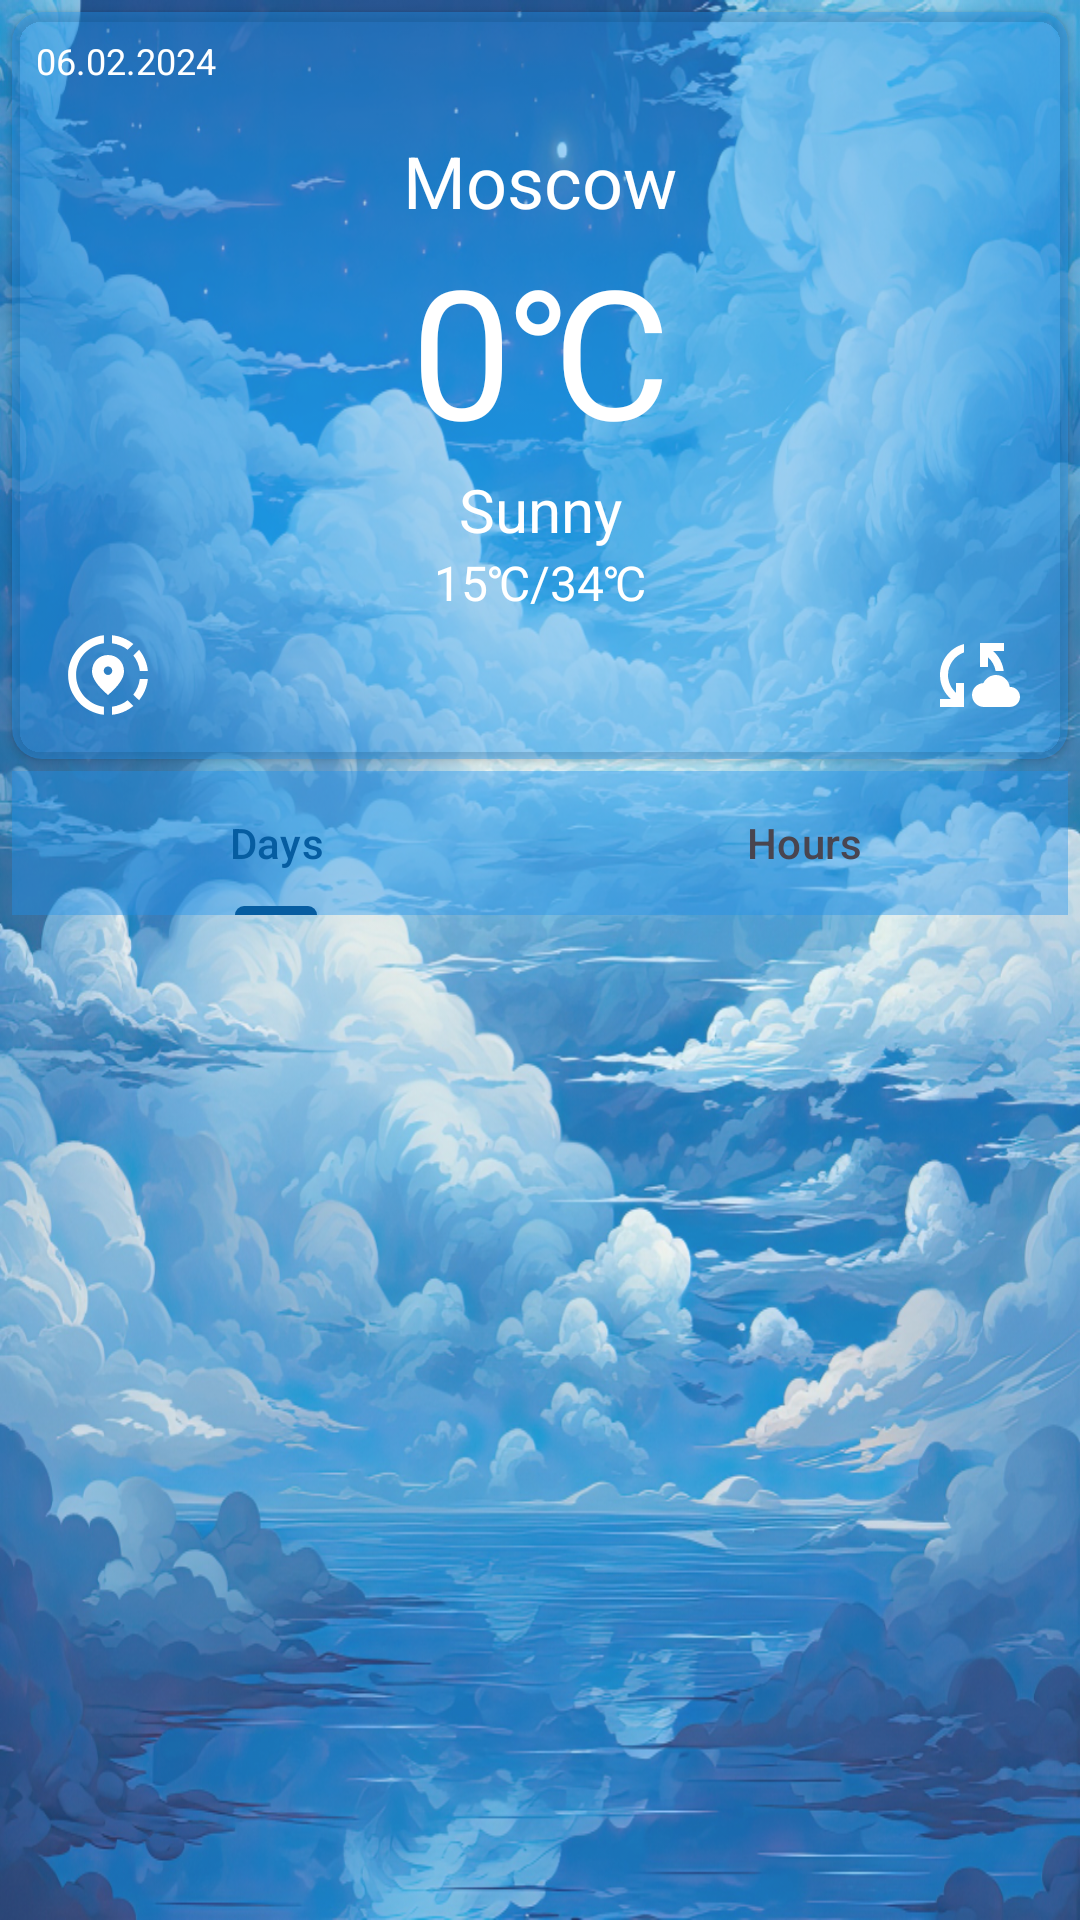

Named icons in this screenshot (1080px x 1920px) and their centers, point (x, y):
cloud sync: point (996, 675)
share location: point (108, 675)
